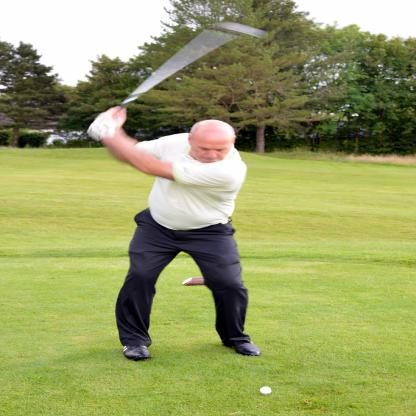Ball: (260, 387, 271, 394)
